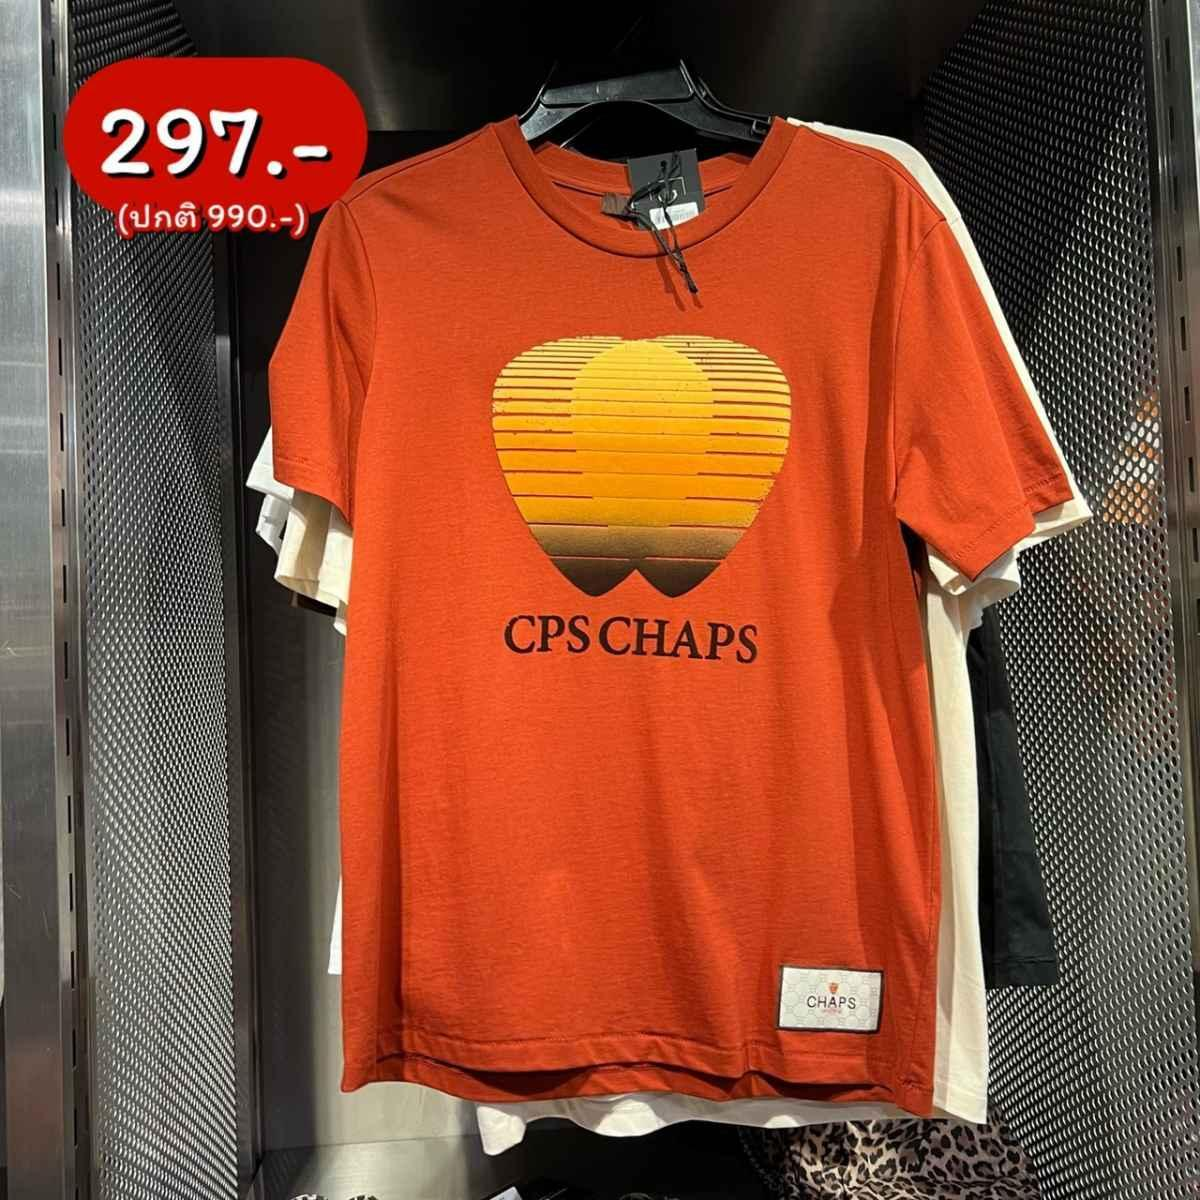Tshirt: (248, 120, 1104, 1132)
